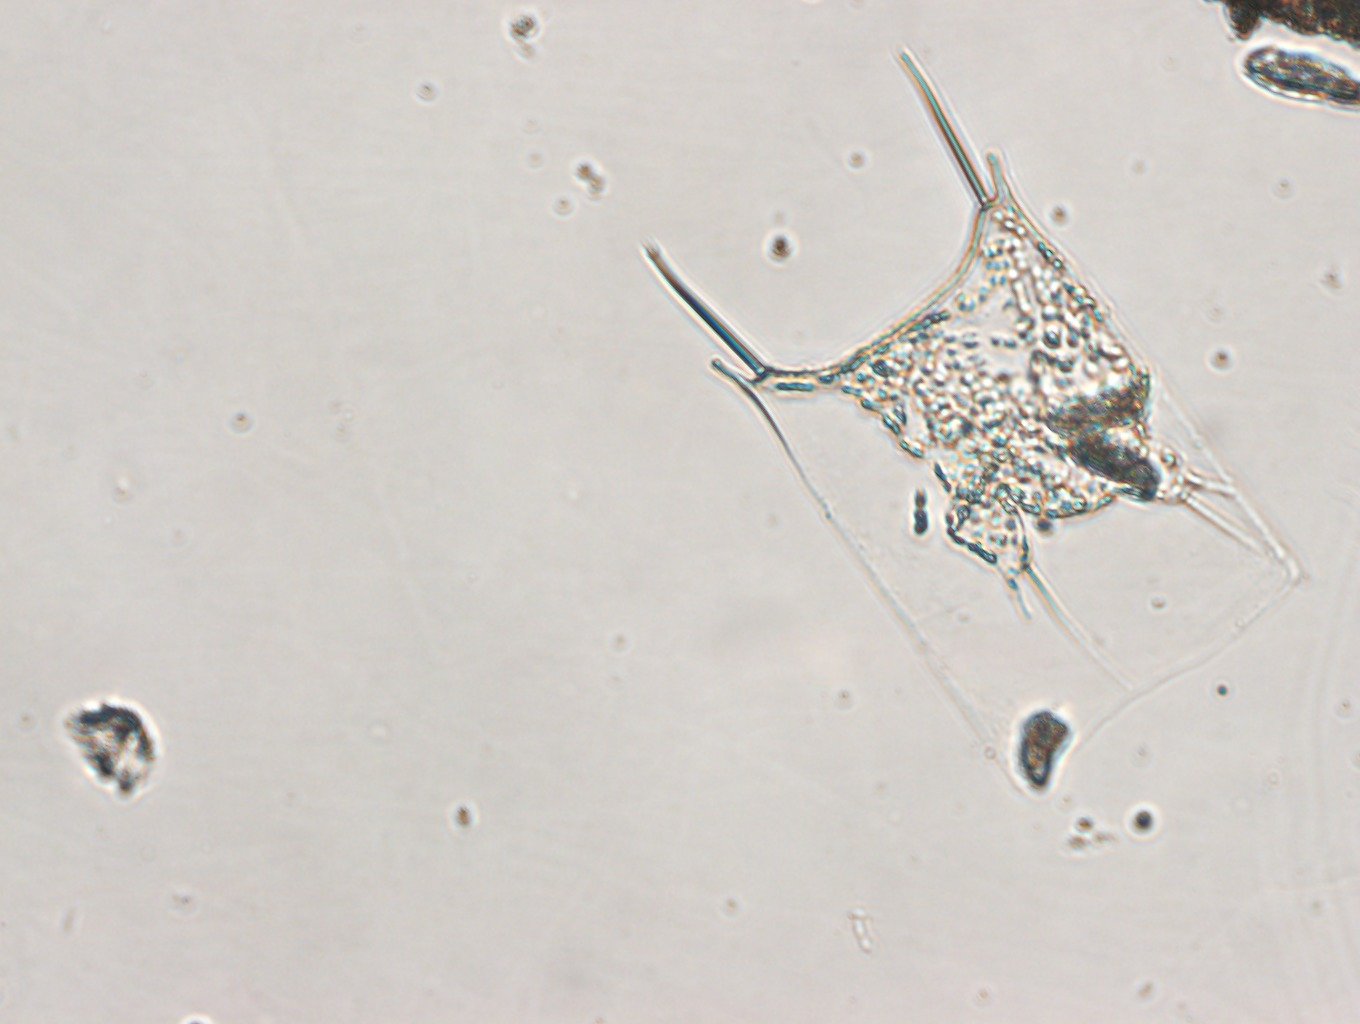biddulphia: (638, 41, 1307, 802)
